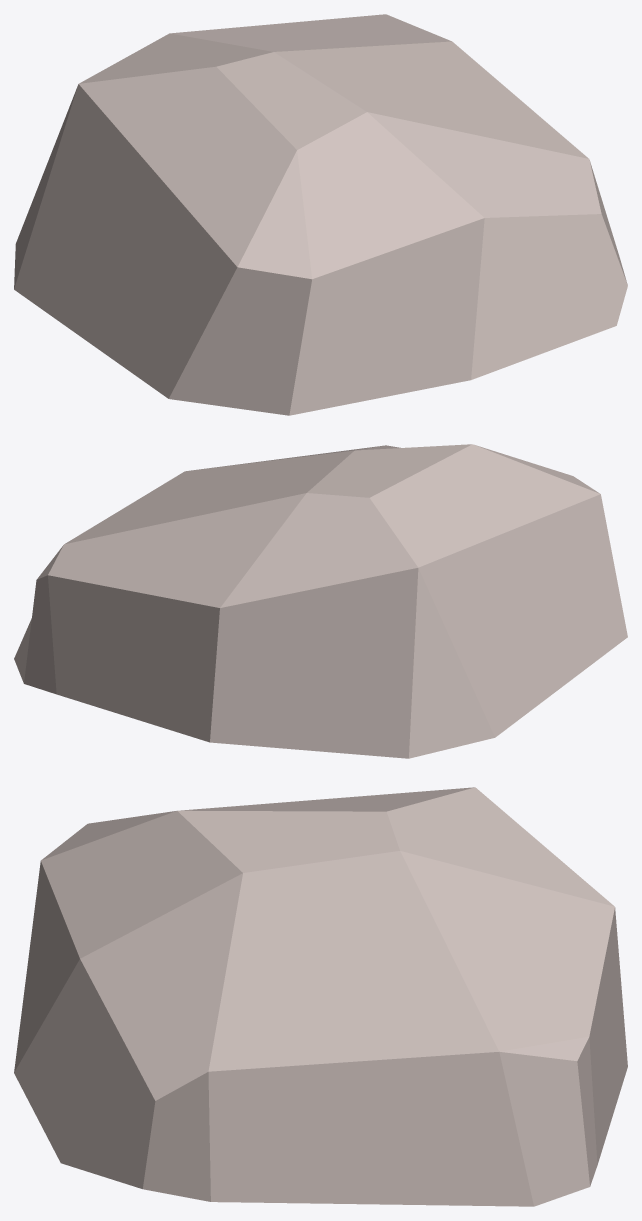
The model's file is rocks_4.fbx.
3 views of the same model, one above another, from view 1: azimuth 30°, elevation 25°; view 2: azimuth 150°, elevation 25°; view 3: azimuth 270°, elevation 25° (orthographic). The views are drawn at different scales.
Visible parts, largest first — view 1: 4; view 2: 4; view 3: 4.
Boxes of the visible parts, left/top/right/bottom form: 4: left=14, top=14, right=627, bottom=415; 4: left=14, top=444, right=627, bottom=758; 4: left=14, top=787, right=627, bottom=1206.
Bounding box in the file's own units: 93.19 × 37.33 × 92.79.
Materials: 1 (1 with a texture image).
